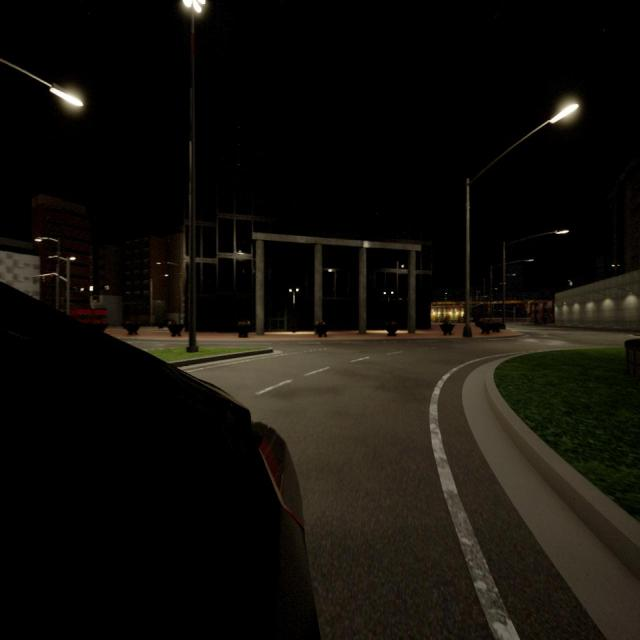Vehicle: (0, 283, 314, 637), (70, 308, 107, 328)
traffic_light: (524, 304, 528, 307), (50, 274, 53, 278), (42, 276, 45, 278), (517, 305, 519, 307)
